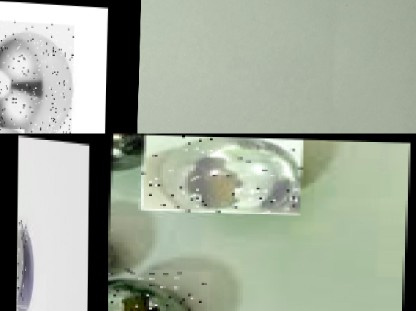ironball: (140, 134, 303, 212), (0, 19, 74, 133), (108, 267, 212, 311), (111, 133, 140, 182), (16, 214, 28, 306), (108, 213, 118, 293), (0, 126, 25, 133)
